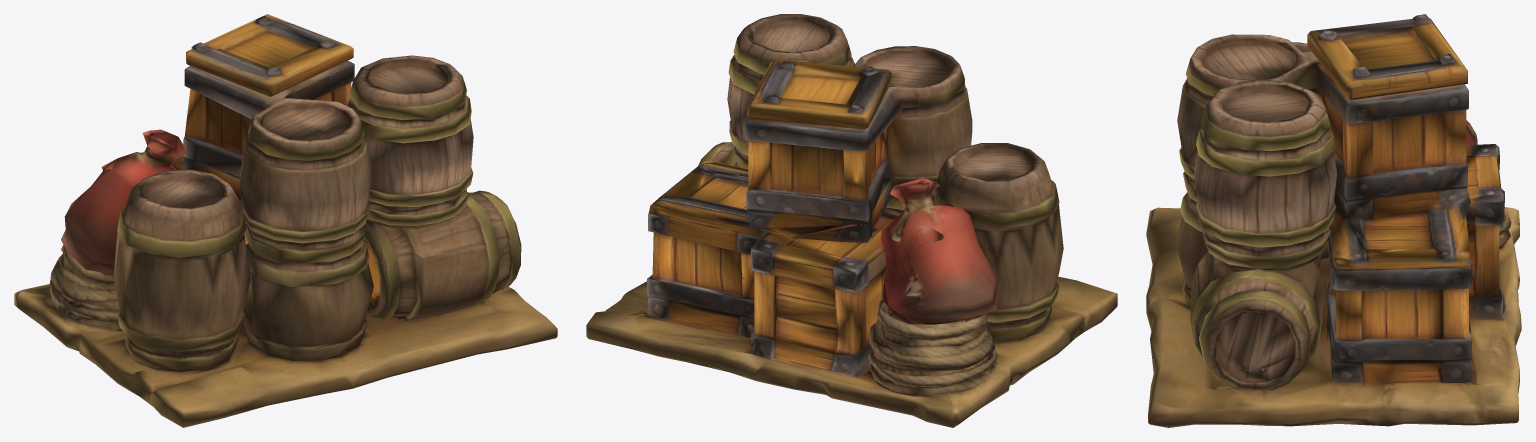
The model's file is cargo_pile.glb.
3 views of the same model, side by side, from view 1: azimuth 30°, elevation 25°; view 2: azimuth 150°, elevation 25°; view 3: azimuth 270°, elevation 25° (orthographic). The views are drawn at different scales.
Parts seen in each view (by area): view 1: cargo_pile; view 2: cargo_pile; view 3: cargo_pile.
Boxes of the visible parts, left/top/right/bottom form: cargo_pile: left=14, top=14, right=557, bottom=427; cargo_pile: left=586, top=14, right=1117, bottom=427; cargo_pile: left=1146, top=14, right=1521, bottom=427.
Bounding box in the file's own units: 12 × 7.91 × 9.37.
Materials: 1 (1 with a texture image).
